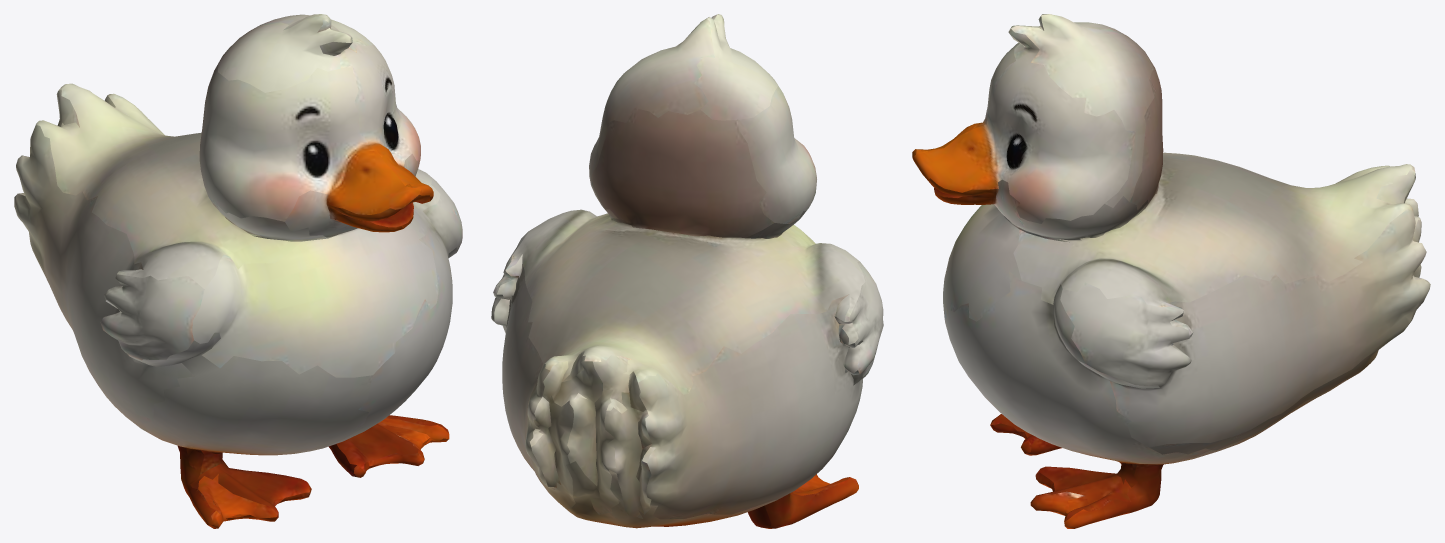
Rendered from duck.glb.
3 renders of one model, left to right at view 1: azimuth 30°, elevation 25°; view 2: azimuth 150°, elevation 25°; view 3: azimuth 270°, elevation 25°, orthographic. The views are drawn at different scales.
Visible parts, largest first — view 1: duck; view 2: duck; view 3: duck.
Part boxes in pixels (<box>): duck: <box>14,14,462,528</box>; duck: <box>491,14,883,528</box>; duck: <box>912,14,1430,528</box>.
Size of the model in its own units: 0.7613 by 0.977 by 1.
1 material, 1 textured.
